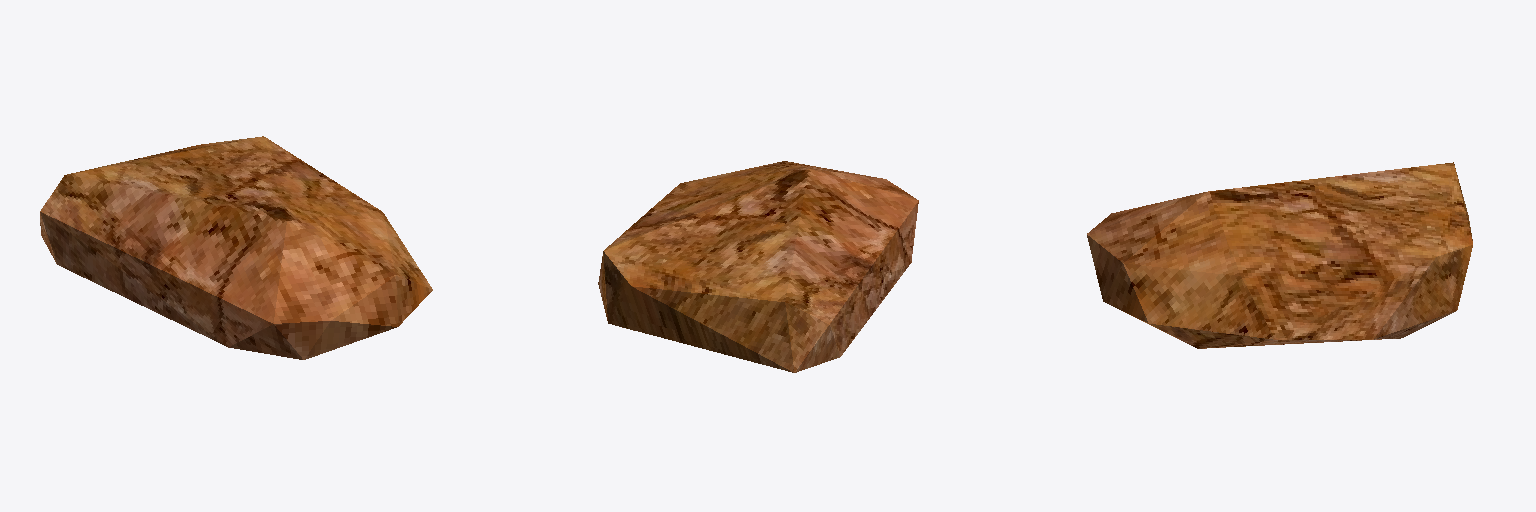
3 renders of one model, left to right at view 1: azimuth 30°, elevation 25°; view 2: azimuth 150°, elevation 25°; view 3: azimuth 270°, elevation 25°, orthographic.
Visible parts, largest first — view 1: rocksquare8; view 2: rocksquare8; view 3: rocksquare8.
Boxes of the visible parts, x1,y1,x2,y2 form: rocksquare8: [40, 136, 432, 359]; rocksquare8: [598, 161, 918, 372]; rocksquare8: [1087, 162, 1472, 348].
Bounding box in the file's own units: 2.9 × 1.24 × 3.5.
Materials: 1 (1 with a texture image).